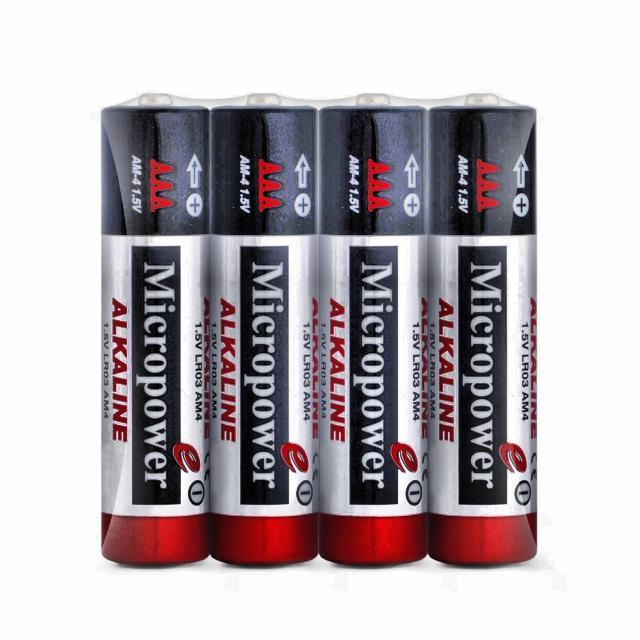battery: (428, 100, 538, 564), (101, 96, 210, 564), (210, 96, 319, 564), (319, 99, 428, 564)
